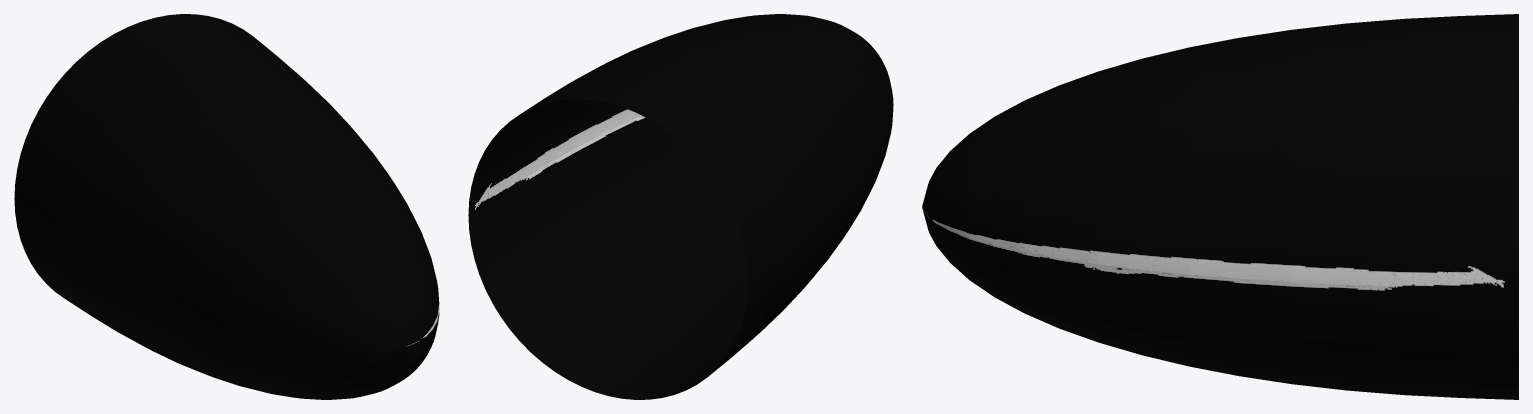
Rendered from SpeedLinesMesh.fbx.
3 renders of one model, left to right at view 1: azimuth 30°, elevation 25°; view 2: azimuth 150°, elevation 25°; view 3: azimuth 270°, elevation 25°, orthographic. The views are drawn at different scales.
Visible parts, largest first — view 1: Sphere; view 2: Sphere; view 3: Sphere.
Boxes of the visible parts, left/top/right/bottom form: Sphere: left=14, top=14, right=439, bottom=399; Sphere: left=468, top=14, right=893, bottom=399; Sphere: left=922, top=14, right=1518, bottom=399.
Bounding box in the file's own units: 701 × 701 × 1083.
